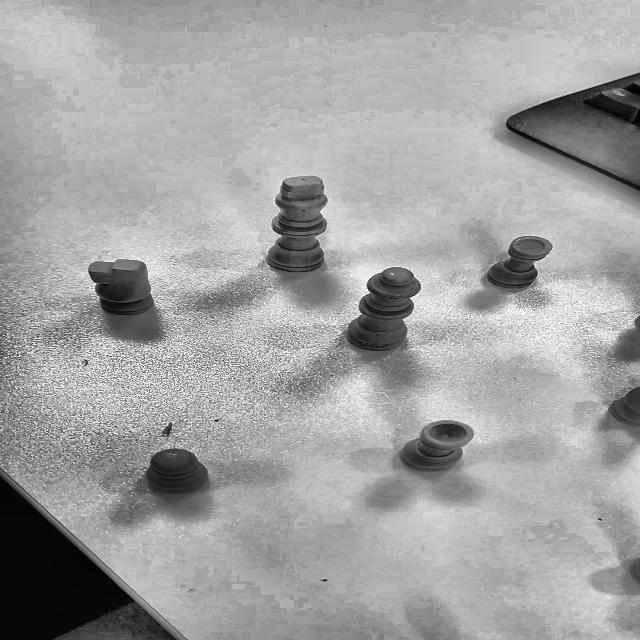white-king: (258, 169, 336, 283)
white-knight: (62, 255, 190, 326)
white-pawn: (133, 440, 221, 511)
white-queen: (336, 260, 440, 368)
white-rook: (480, 224, 576, 308), (392, 412, 492, 492)
